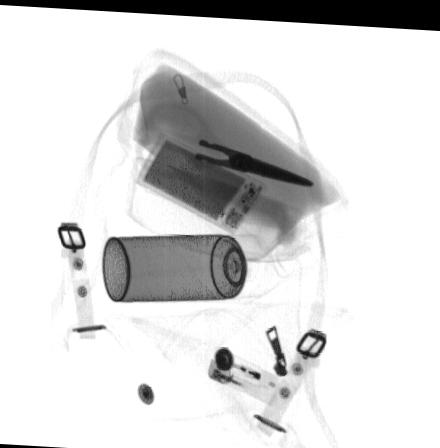Lighter: (207, 342, 300, 410)
Powerbank: (131, 128, 267, 236)
Scissors: (133, 96, 313, 183)
Sprayer: (101, 228, 275, 302)
